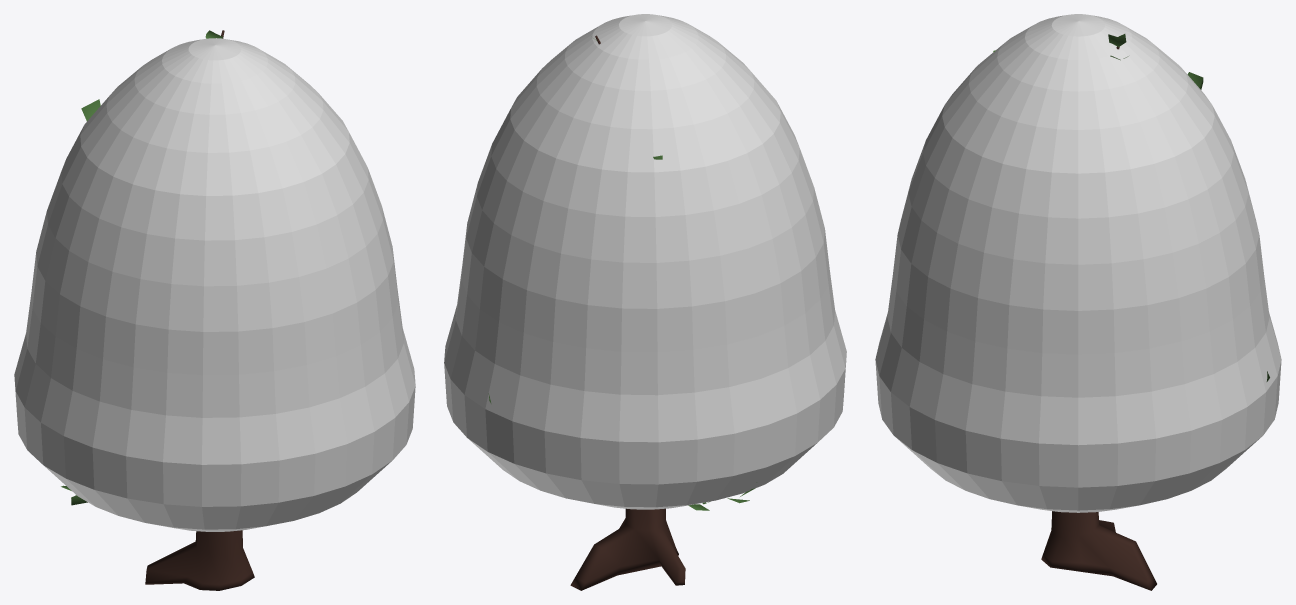
Rendered from tree3.glb.
The picture shows the model from 3 angles, left to right: view 1: azimuth 30°, elevation 25°; view 2: azimuth 150°, elevation 25°; view 3: azimuth 270°, elevation 25°; orthographic projection.
Visible parts, largest first — view 1: Sphere, trunk-col; view 2: Sphere, trunk-col; view 3: Sphere, trunk-col.
Part boxes in pixels (x1,y1,x2,y2): Sphere: [14, 38, 415, 531]; trunk-col: [145, 30, 254, 590]; Sphere: [444, 14, 846, 509]; trunk-col: [570, 35, 685, 590]; Sphere: [875, 14, 1281, 512]; trunk-col: [1041, 46, 1156, 590].
Size of the model in its own units: 19.39 by 29.3 by 19.39.
